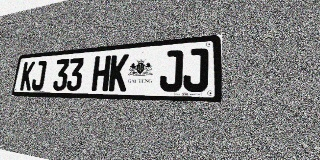3: (66, 57, 84, 91), (52, 59, 70, 91)
H: (91, 55, 111, 91)
J: (183, 48, 208, 92), (159, 50, 183, 92), (31, 60, 47, 91)
K: (108, 54, 129, 91), (20, 61, 35, 90)
